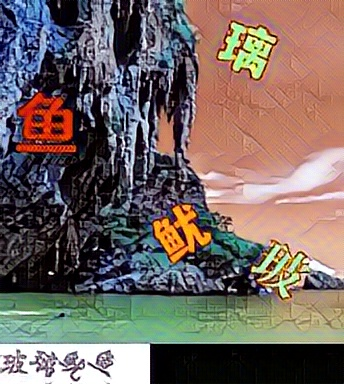B2A3: (247, 234, 312, 301)
C1A7: (215, 15, 280, 82)
D3E3: (13, 89, 78, 156)
F6CF: (149, 197, 214, 264)
